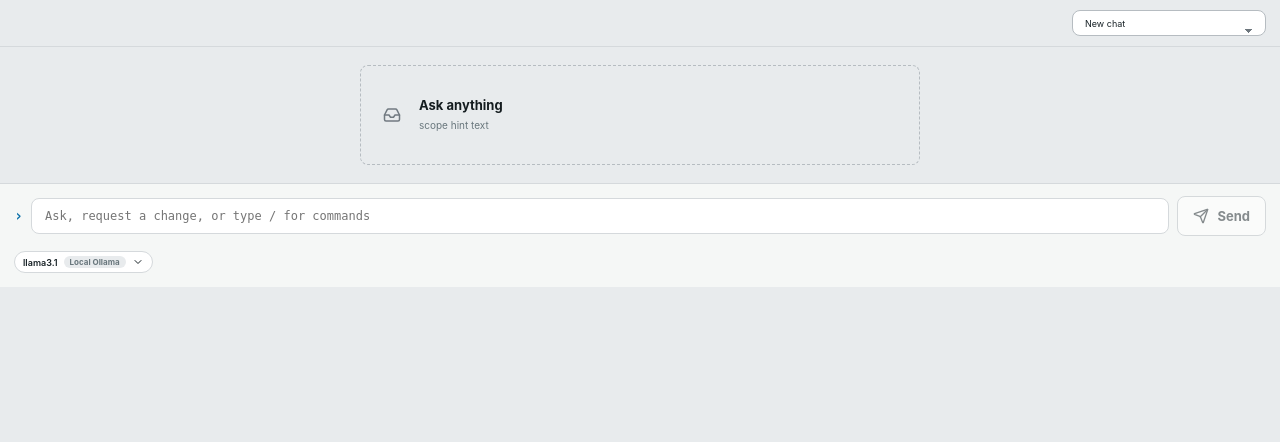
Test: shows why an apply failed instead of silently stopping
This screenshot has width=1280, height=442.
Select "llama3.1 · 8/24/2026, 12:00:00 AM" in the dropdown named "Conversation" at (1169, 23), box [1072, 10, 1266, 36]
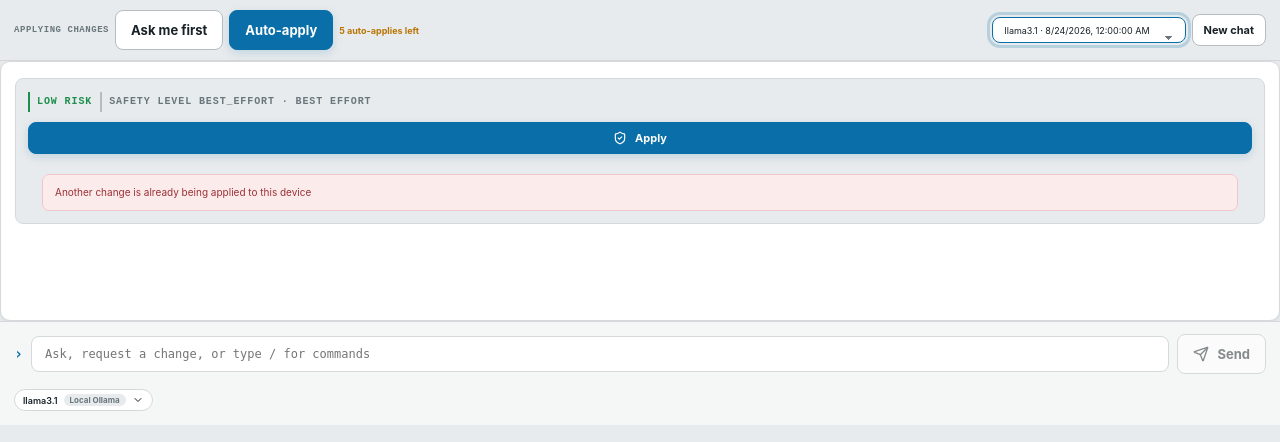
Expected: the text "Another change is already being applied to this device" is shown, [42, 174, 1238, 211]
